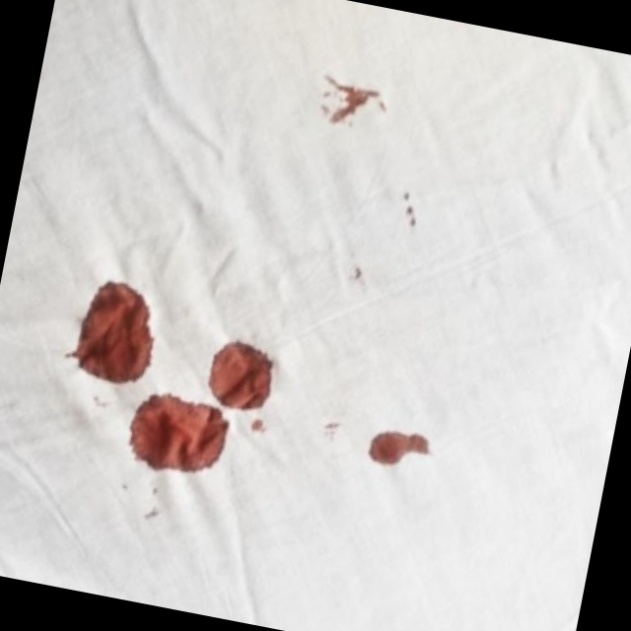blood: (66, 274, 170, 392), (120, 388, 238, 487), (203, 334, 281, 422), (360, 412, 441, 480)
